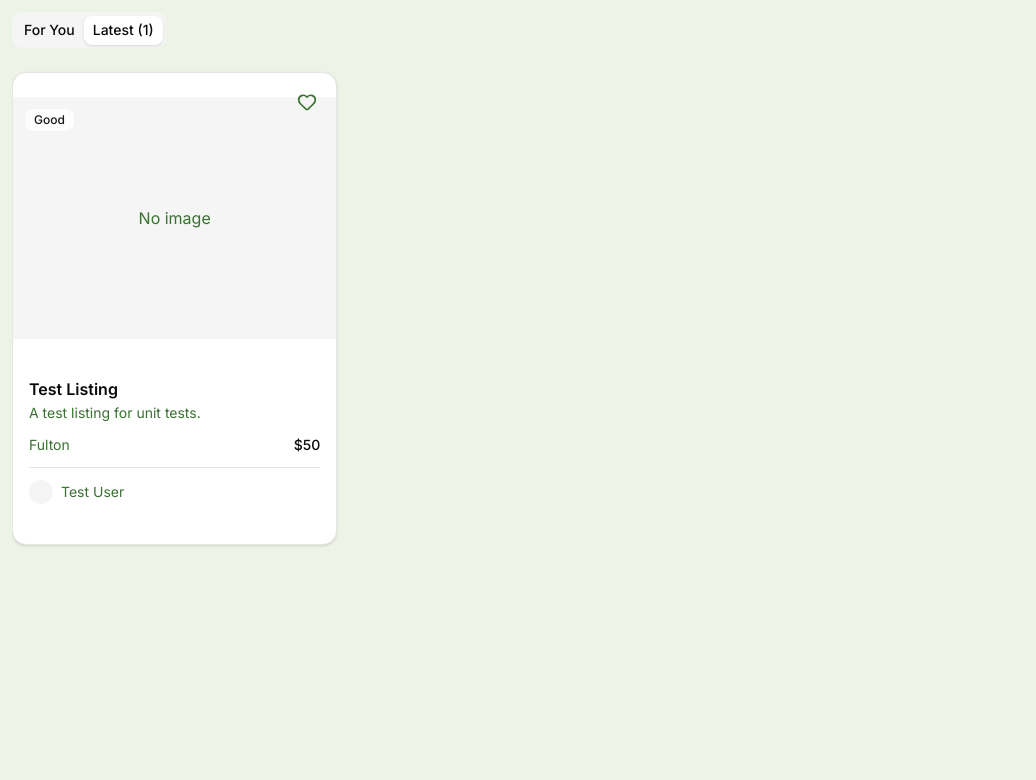
DiscoverFeedTabs › shows error state when for-you fails
Note: Default tab is "latest" because for-you is empty, so switch to for-you
What coordinates should you click on to do the following:
click the tab "For You"
I would click on:
 (49, 30)
Its box is top-left (15, 16), bottom-right (84, 44).
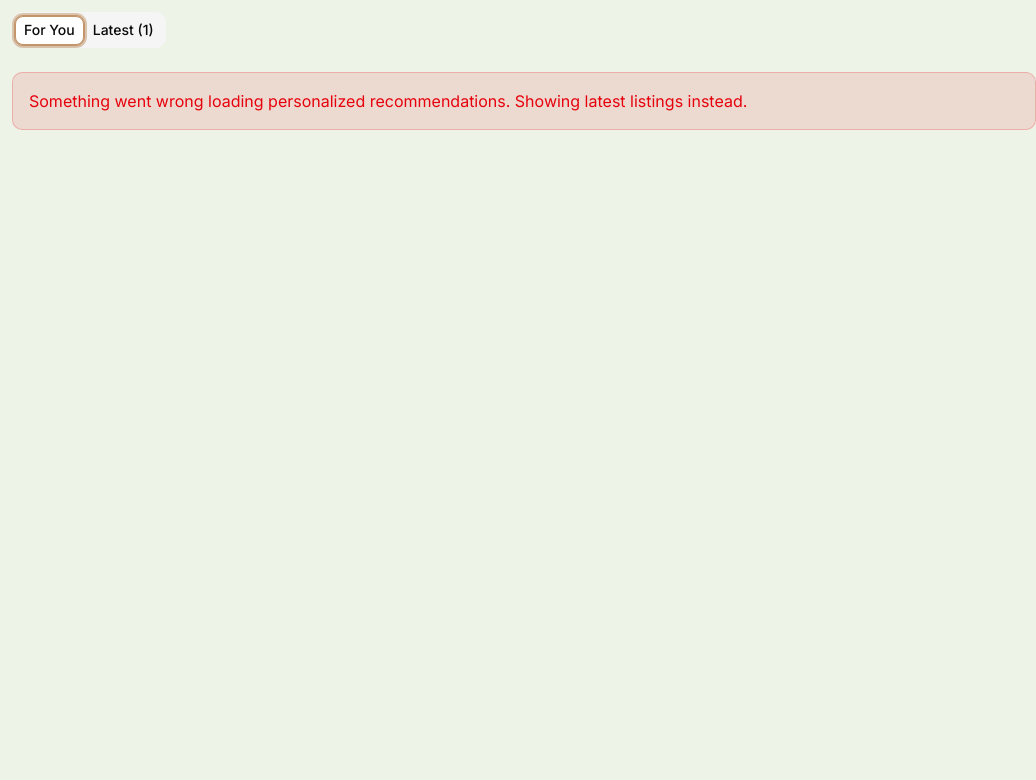
Expected: the text "Something went wrong loading personalized recommendations" is shown, top-left (29, 91), bottom-right (747, 111)
